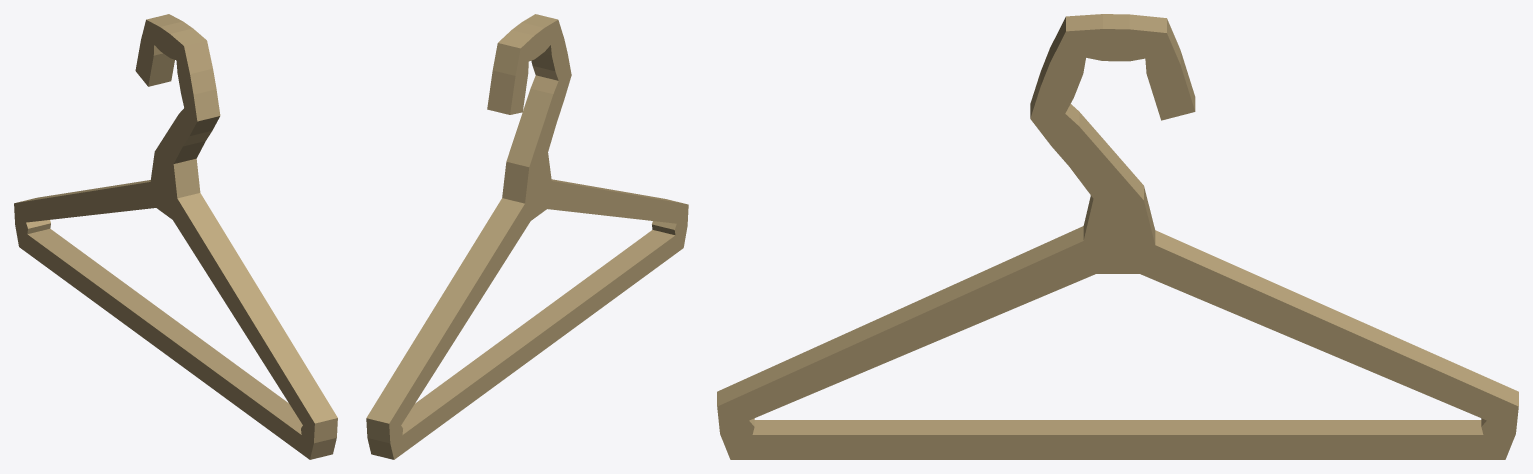
Rendered from ClothesHanger.fbx.
3 views of the same model, side by side, from view 1: azimuth 30°, elevation 25°; view 2: azimuth 150°, elevation 25°; view 3: azimuth 270°, elevation 25° (orthographic). The views are drawn at different scales.
Visible parts, largest first — view 1: Vert; view 2: Vert; view 3: Vert.
Part boxes in pixels (box(x1,y1,x2,y2)): Vert: box(14, 14, 337, 459); Vert: box(366, 14, 688, 459); Vert: box(717, 14, 1518, 459).
Bounding box in the file's own units: 1.71 × 22.98 × 38.74.
